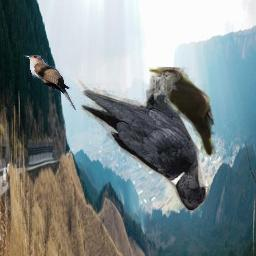Crow: (78, 66, 210, 211)
Cuckoo: (149, 67, 216, 157), (23, 55, 76, 110)
